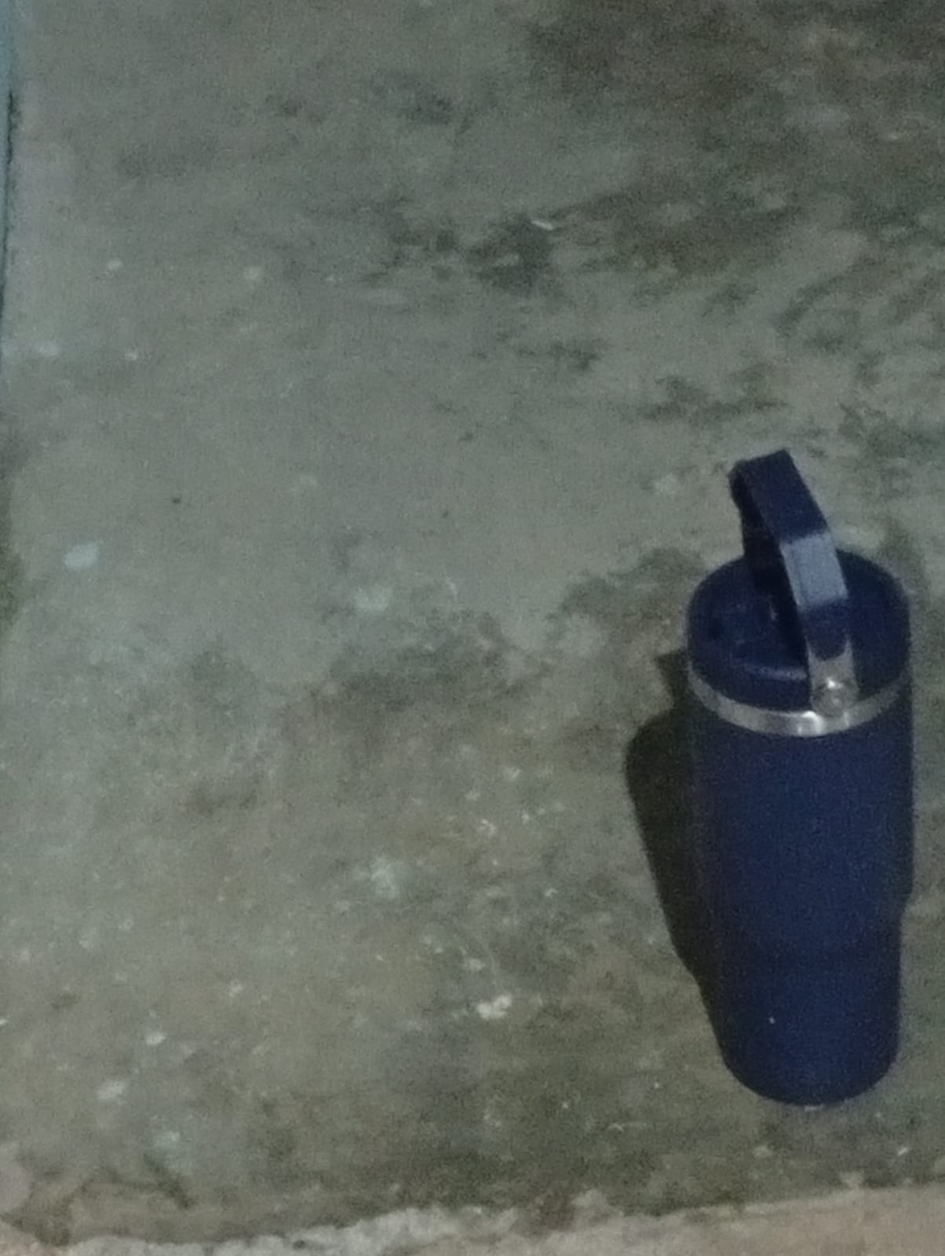Tupperware: (654, 436, 930, 1118)
